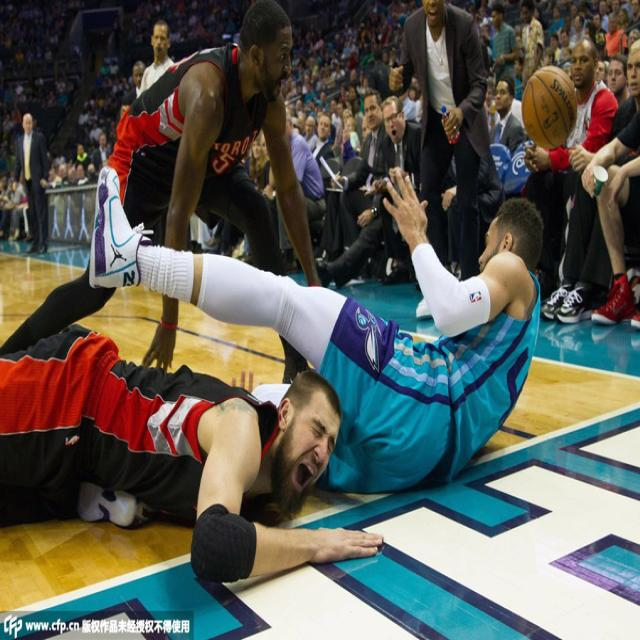10-: (1, 0, 640, 355)
down: (75, 187, 551, 540), (0, 313, 396, 578)
